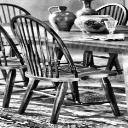chair_success: (6, 9, 124, 122)
